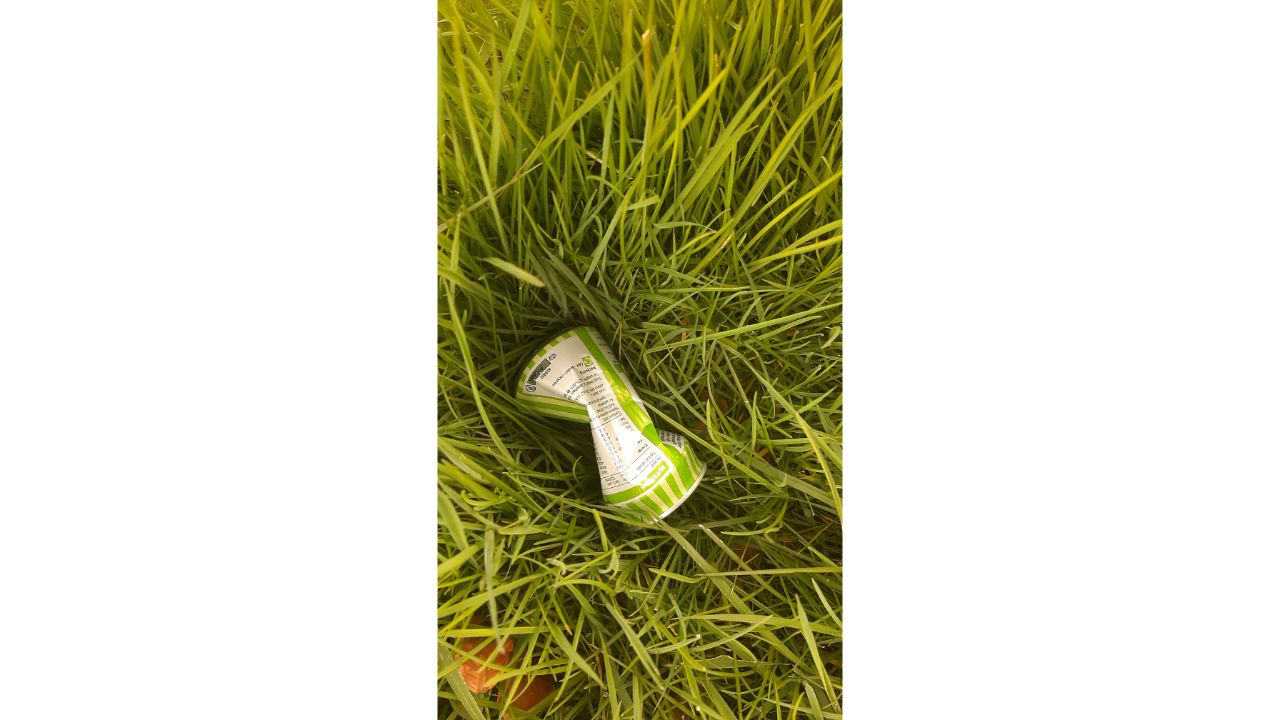Can: (503, 316, 717, 541)
